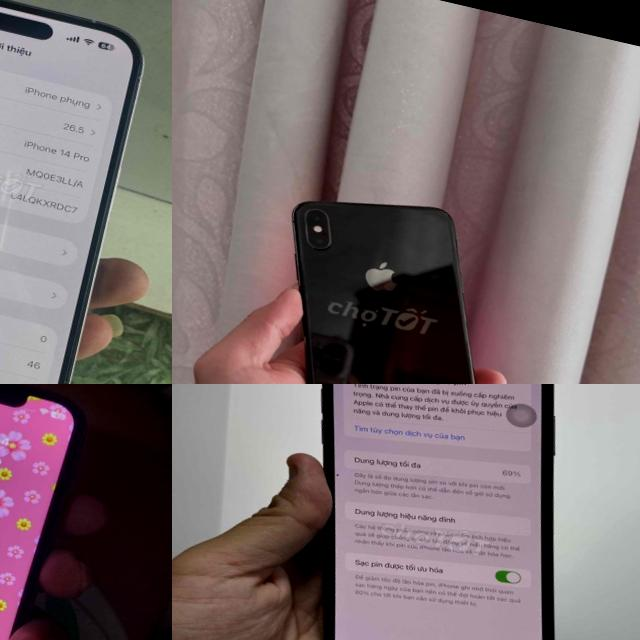gen_11: (246, 384, 637, 640)
gen_14: (0, 0, 172, 384)
gen_x_xs: (232, 172, 539, 384), (0, 384, 82, 640)
